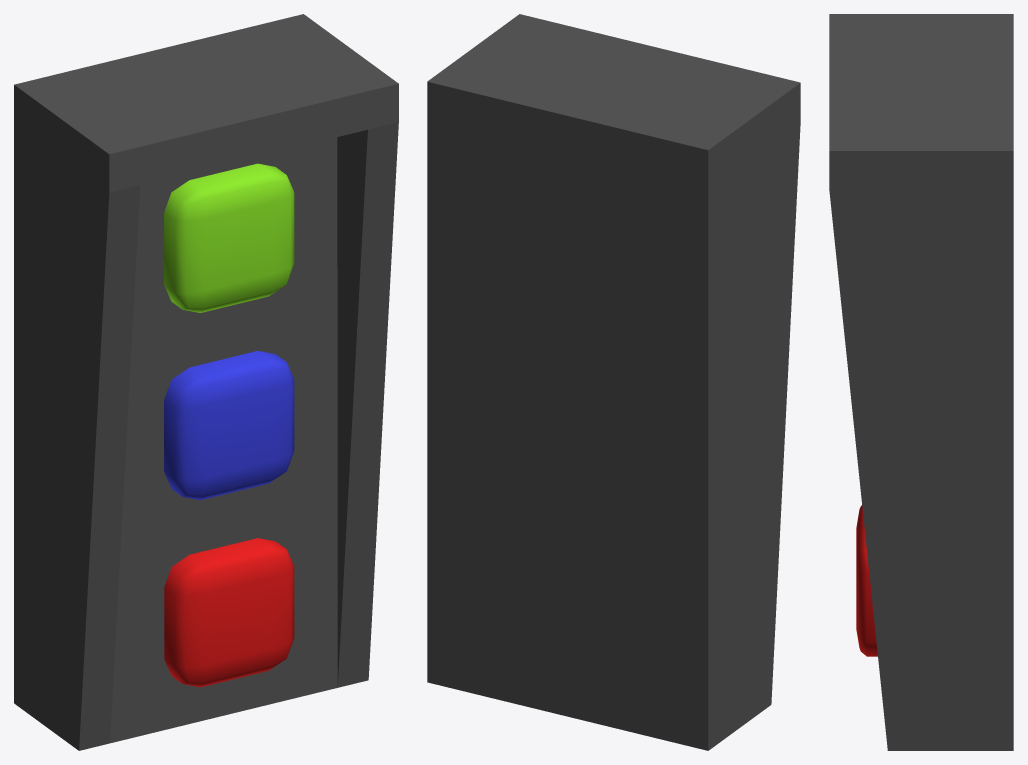
The model's file is buttons.fbx.
3 renders of one model, left to right at view 1: azimuth 30°, elevation 25°; view 2: azimuth 150°, elevation 25°; view 3: azimuth 270°, elevation 25°, orthographic. The views are drawn at different scales.
Visible parts, largest first — view 1: Buttons; view 2: Buttons; view 3: Buttons.
Part boxes in pixels (x1=…): Buttons: x1=14, y1=14, x2=398, y2=750; Buttons: x1=427, y1=14, x2=800, y2=750; Buttons: x1=829, y1=14, x2=1013, y2=750.
Size of the model in its own units: 26.25 by 14.95 by 53.59.
